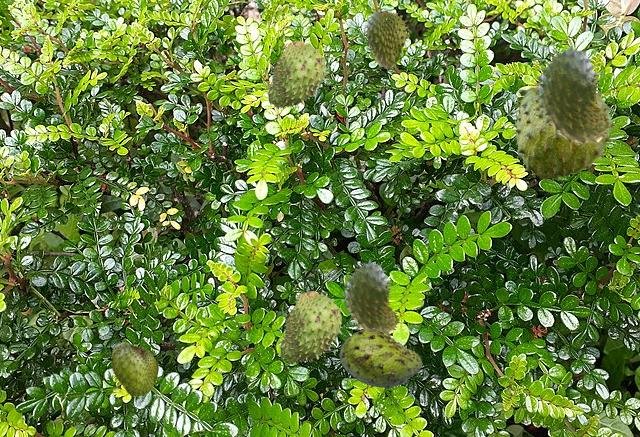guyabano: (512, 86, 615, 179), (533, 44, 609, 151), (339, 328, 421, 387), (277, 291, 341, 363), (341, 259, 398, 334), (265, 41, 325, 108), (363, 10, 410, 69), (111, 341, 157, 395)
